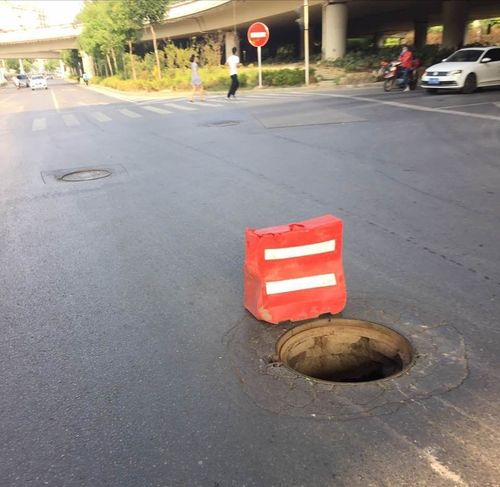lose: (243, 290, 464, 432)
